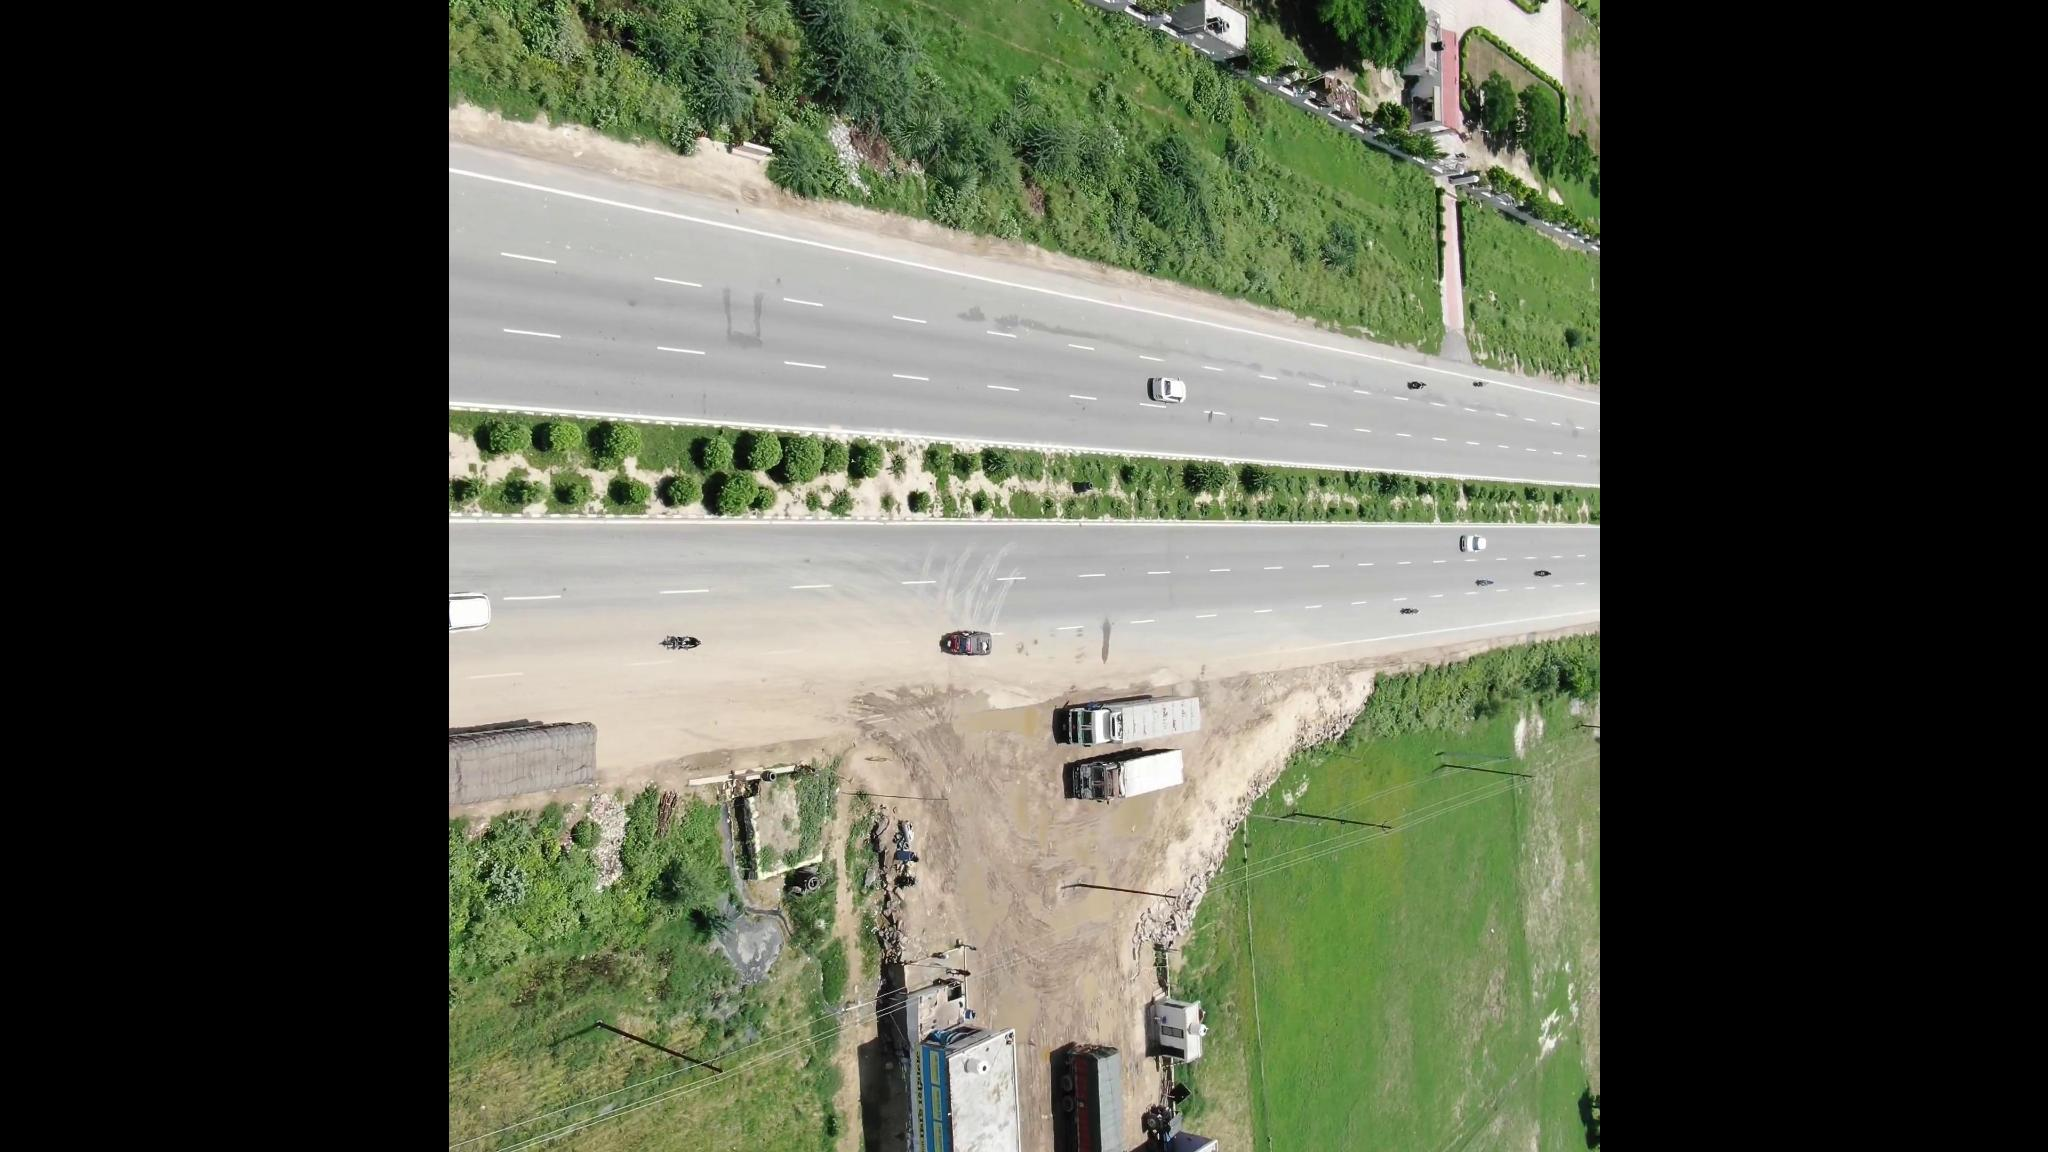Muddy_road: (847, 657, 1011, 724)
